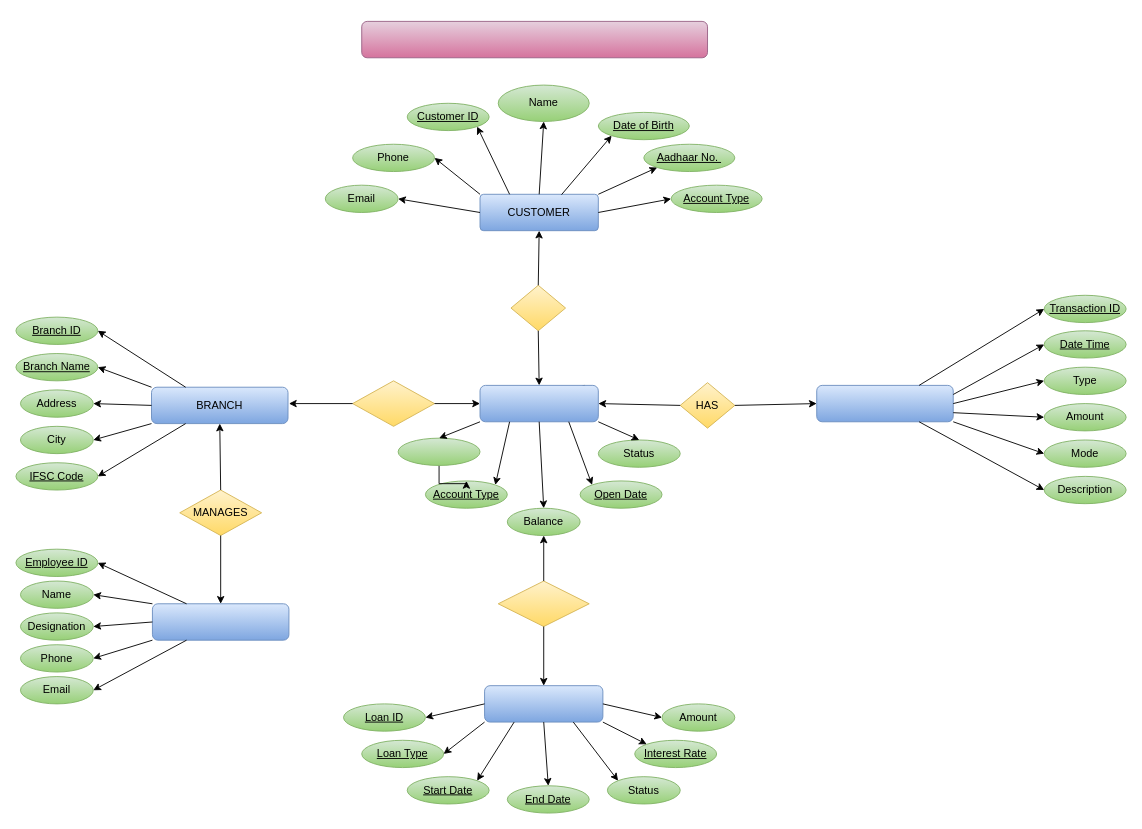
This 1142x829 diagram has some shape labels left out. Each missing label, with the box of its shape:
ACCOUNT: (479, 384, 598, 422)
Account No.: (397, 437, 480, 465)
Banking Database: (361, 20, 708, 58)
EMPLOYEE: (152, 603, 289, 640)
LINKED_TO: (497, 580, 589, 627)
LOAN: (484, 685, 603, 722)
MAINTAINS: (352, 380, 435, 426)
OWNS: (510, 284, 566, 331)
TRANSACTION: (816, 384, 953, 422)
